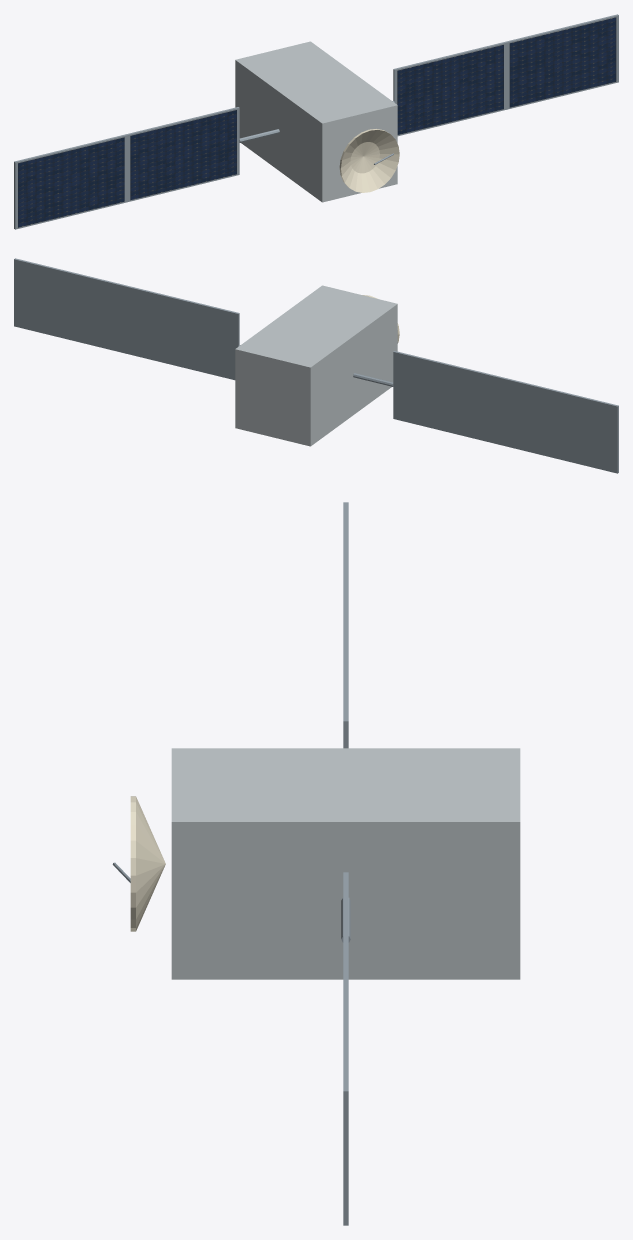
The model's file is ref-adv-orion-25336.glb.
The picture shows the model from 3 angles, top to bottom: view 1: azimuth 30°, elevation 25°; view 2: azimuth 150°, elevation 25°; view 3: azimuth 270°, elevation 25°; orthographic projection. The views are drawn at different scales.
Parts seen in each view (by area): view 1: Photovoltaic laminates (×4), Spacecraft body, Array frame (×4), Reflector dish; view 2: Array frame (×4), Spacecraft body; view 3: Spacecraft body, Reflector dish, Array frame.
Boxes of the visible parts, x1=… form: Photovoltaic laminates (×4): x1=18, y1=17, x2=616, y2=227; Spacecraft body: x1=235, y1=41, x2=397, y2=202; Array frame (×4): x1=14, y1=14, x2=618, y2=229; Reflector dish: x1=339, y1=129, x2=399, y2=192; Array frame (×4): x1=14, y1=258, x2=618, y2=473; Spacecraft body: x1=235, y1=285, x2=397, y2=446; Spacecraft body: x1=171, y1=748, x2=520, y2=979; Reflector dish: x1=130, y1=796, x2=165, y2=931; Array frame: x1=343, y1=982, x2=348, y2=1225.
Bounding box in the file's own units: 20 × 2.5 × 5.85.
Materials: 4 (1 with a texture image).
